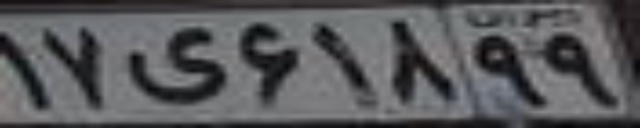1: (315, 21, 375, 104), (0, 31, 48, 108)
6: (236, 22, 300, 104)
7: (43, 24, 112, 108)
8: (380, 20, 459, 104)
9: (544, 34, 619, 108), (471, 33, 541, 108)
ye: (123, 26, 231, 104)
